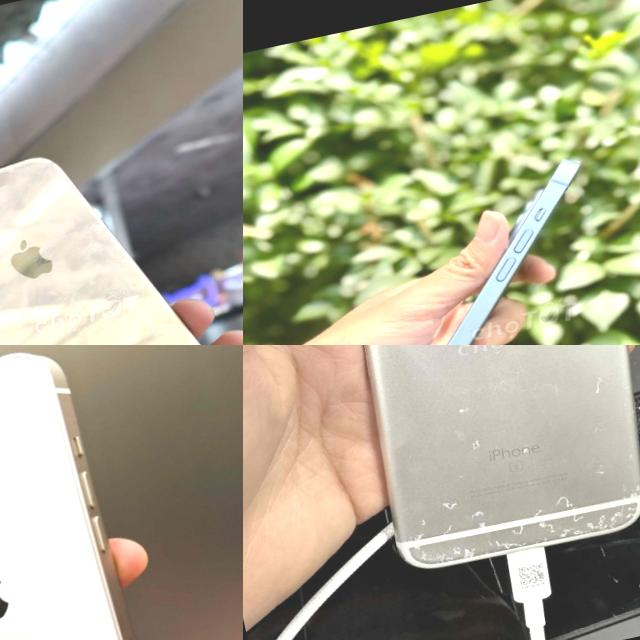gen_12_13: (0, 345, 180, 640)
gen_14: (330, 157, 640, 345)
gen_6: (365, 345, 640, 568)
gen_x_xs: (0, 158, 199, 345)
